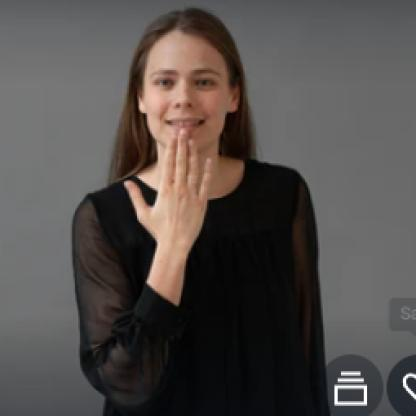thankyou: (117, 120, 226, 272)
